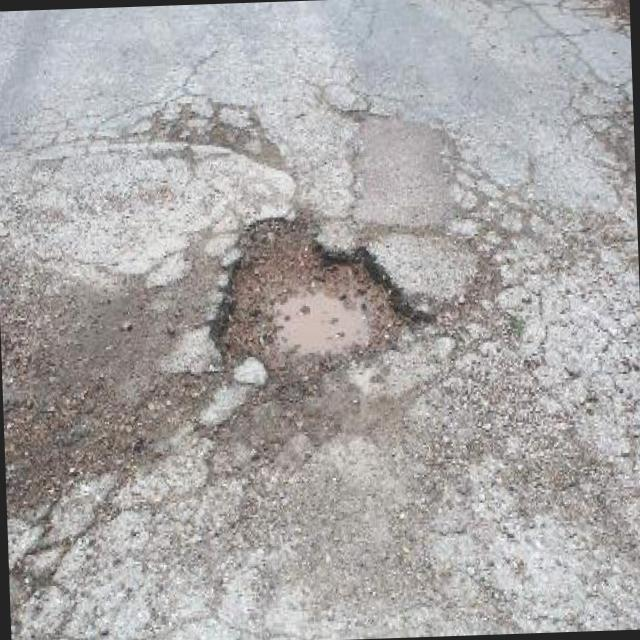Lubang: (205, 218, 423, 399)
